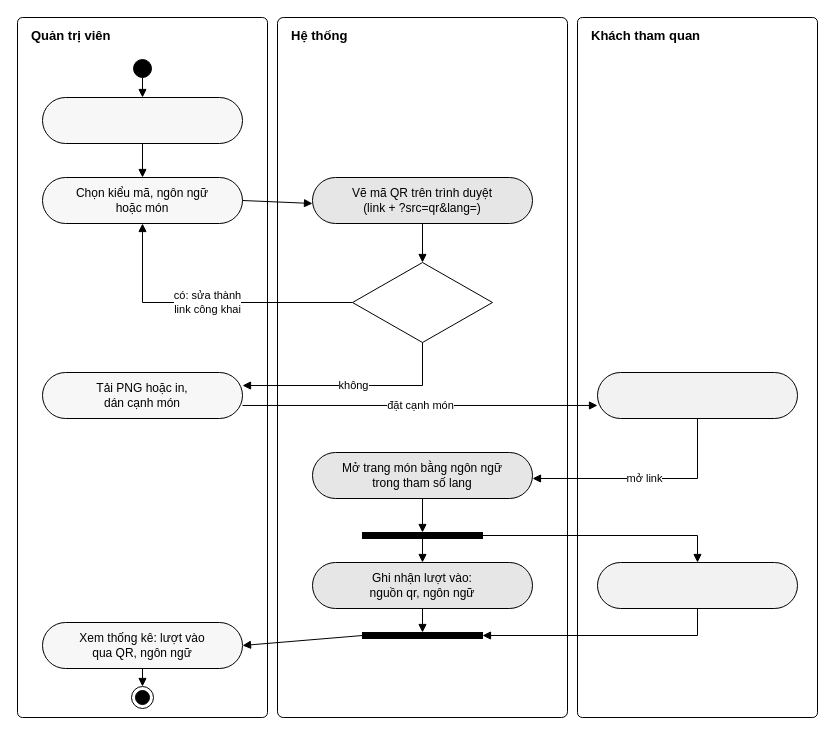
Image size: 835x735. Some labels were removed from this diagram. The box of each missing label's shape, as (x1, y1, x2, y2) in pixels:
Link là localhost?: (352, 262, 492, 342)
Nghe thuyết minh bằng ngôn ngữ đó: (596, 562, 798, 608)
Quét mã bằng điện thoại: (596, 372, 798, 418)
Đăng nhập /admin/qr bằng mã PIN: (42, 96, 242, 144)
